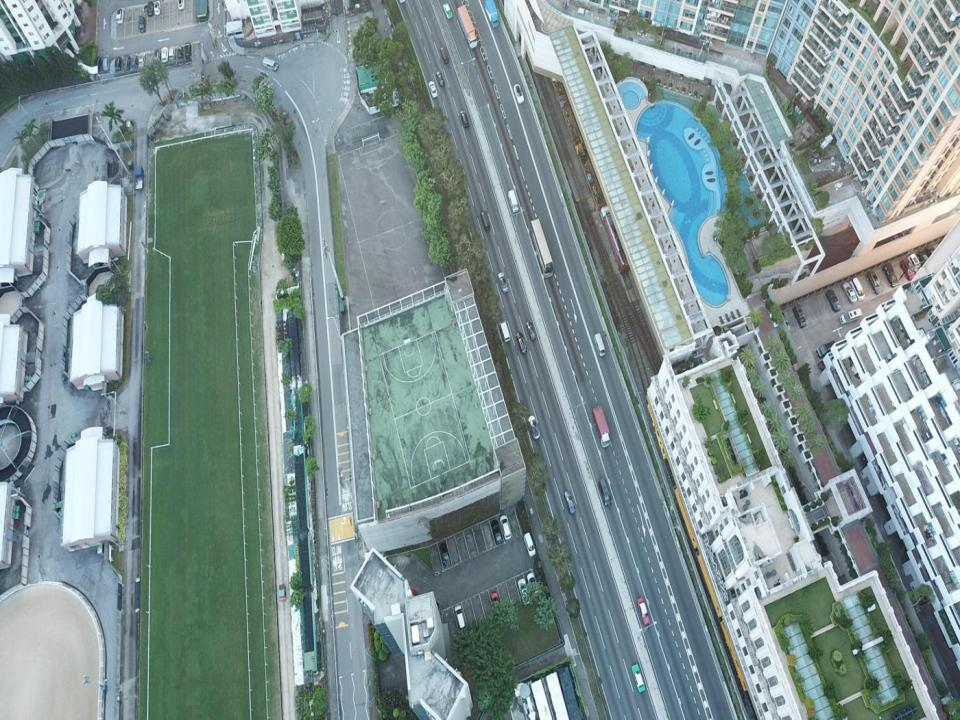bus: (600, 205, 629, 271), (529, 218, 555, 278)
car: (900, 258, 918, 282), (848, 276, 865, 300), (866, 270, 883, 294), (636, 597, 650, 625), (907, 253, 923, 276), (527, 573, 541, 599), (632, 662, 644, 692), (925, 245, 941, 267), (842, 282, 858, 304), (499, 514, 512, 540), (518, 578, 530, 605), (916, 250, 932, 270), (826, 288, 840, 310), (528, 414, 540, 439), (490, 590, 502, 614), (492, 519, 503, 545), (439, 543, 450, 567), (564, 490, 575, 514), (779, 312, 791, 334), (498, 272, 509, 294), (516, 332, 527, 354), (818, 357, 835, 371), (410, 587, 422, 606), (513, 84, 524, 103), (525, 322, 536, 340), (442, 3, 453, 19), (428, 80, 437, 98), (184, 42, 192, 61), (436, 70, 444, 87), (153, 48, 162, 63), (116, 8, 124, 24), (146, 0, 154, 16), (278, 584, 286, 600), (160, 47, 168, 62), (138, 53, 145, 69), (168, 47, 176, 60), (153, 1, 160, 15), (94, 56, 101, 69), (177, 47, 184, 60), (131, 55, 136, 69), (178, 0, 184, 10)
truck: (457, 5, 478, 48), (592, 404, 610, 448), (484, 0, 498, 27), (134, 166, 145, 191)
van: (882, 262, 898, 287), (839, 307, 862, 324), (599, 478, 612, 506), (792, 303, 806, 328), (523, 531, 536, 556), (816, 341, 835, 358), (454, 605, 466, 630), (594, 332, 605, 356), (508, 189, 519, 212), (499, 320, 510, 342), (262, 57, 278, 71), (481, 210, 490, 230), (440, 46, 449, 65), (460, 110, 468, 129), (138, 15, 146, 33), (102, 55, 110, 71), (123, 55, 130, 70), (114, 57, 120, 70)
